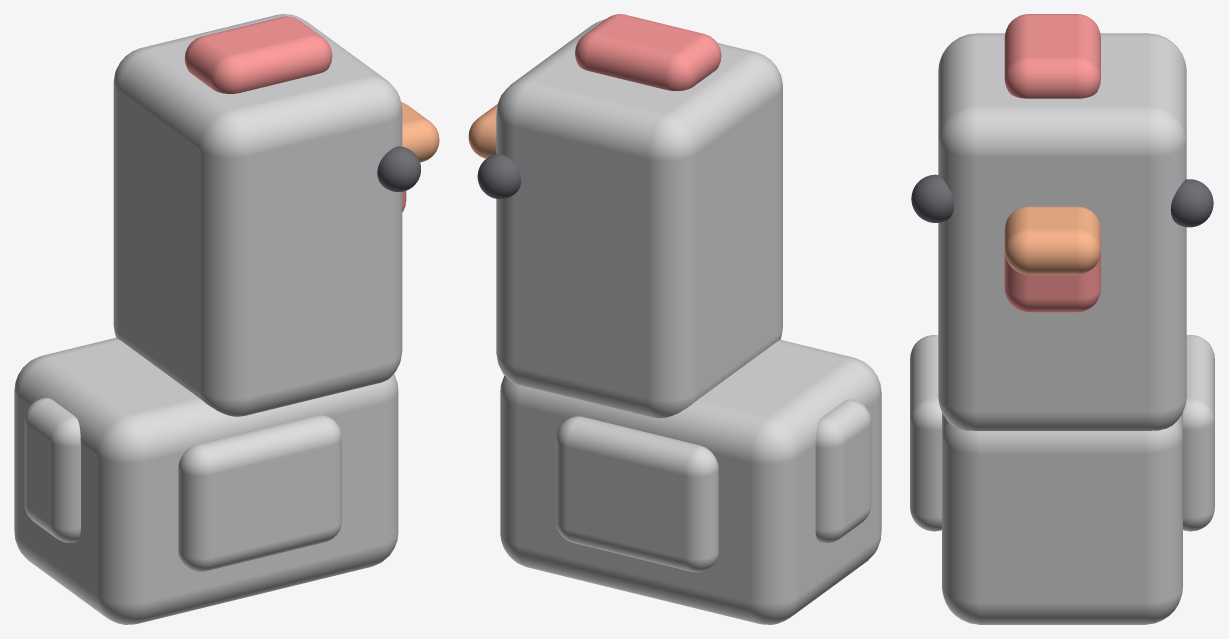
File: chicken.gltf
3 views of the same model, side by side, from view 1: azimuth 30°, elevation 25°; view 2: azimuth 150°, elevation 25°; view 3: azimuth 270°, elevation 25° (orthographic). The views are drawn at different scales.
Visible parts, largest first — view 1: Head, Body, Right_Wing, Plume, Tail, Right_Eye, Beak; view 2: Head, Body, Left_Wing, Plume, Tail, Left_Eye, Beak; view 3: Head, Body, Plume, Beak, Left_Wing, Right_Wing, Gobble, Left_Eye, Right_Eye.
Boxes of the visible parts, x1,y1,x2,y2 form: Head: (113,14,402,416); Body: (14,338,398,624); Right_Wing: (178,415,341,571); Plume: (184,16,332,93); Tail: (24,398,80,542); Right_Eye: (377,146,420,191); Beak: (401,102,439,162); Head: (496,19,782,418); Body: (500,339,881,624); Left_Wing: (556,416,718,572); Plume: (575,14,721,90); Tail: (815,399,871,543); Left_Eye: (477,154,520,199); Beak: (468,104,497,158); Head: (938,33,1186,430); Body: (942,413,1182,624); Plume: (1004,14,1100,98); Beak: (1004,206,1100,274); Left_Wing: (1183,335,1214,531); Right_Wing: (910,335,941,531); Gobble: (1004,252,1100,312); Left_Eye: (1170,179,1213,227); Right_Eye: (911,174,954,222).
Bounding box in the file's own units: 0.9644 × 1.26 × 0.6322.
